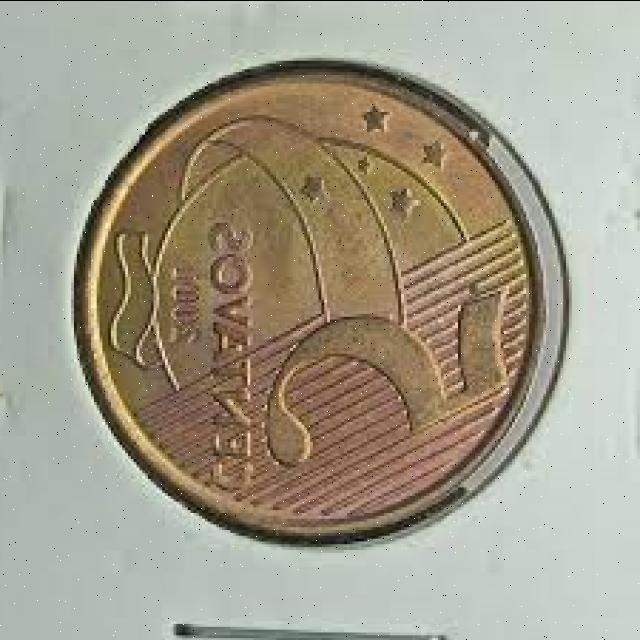5 cent: (88, 62, 542, 529)
